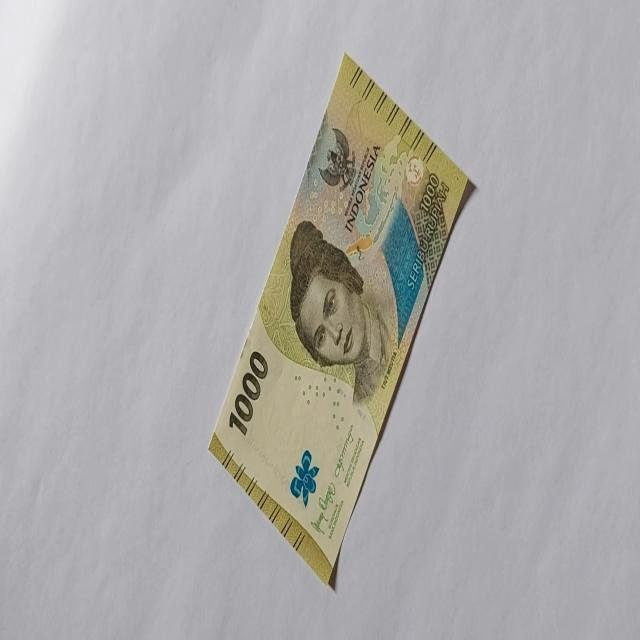seribu rupiah kertas: (207, 50, 478, 588)
